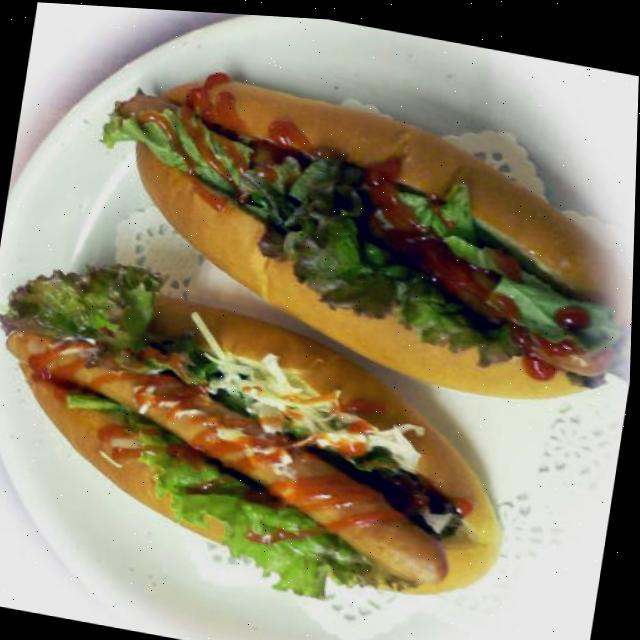汉堡快餐: (0, 23, 639, 640)
